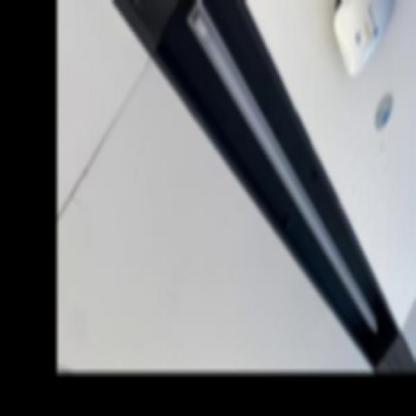light_off: (184, 0, 385, 340)
